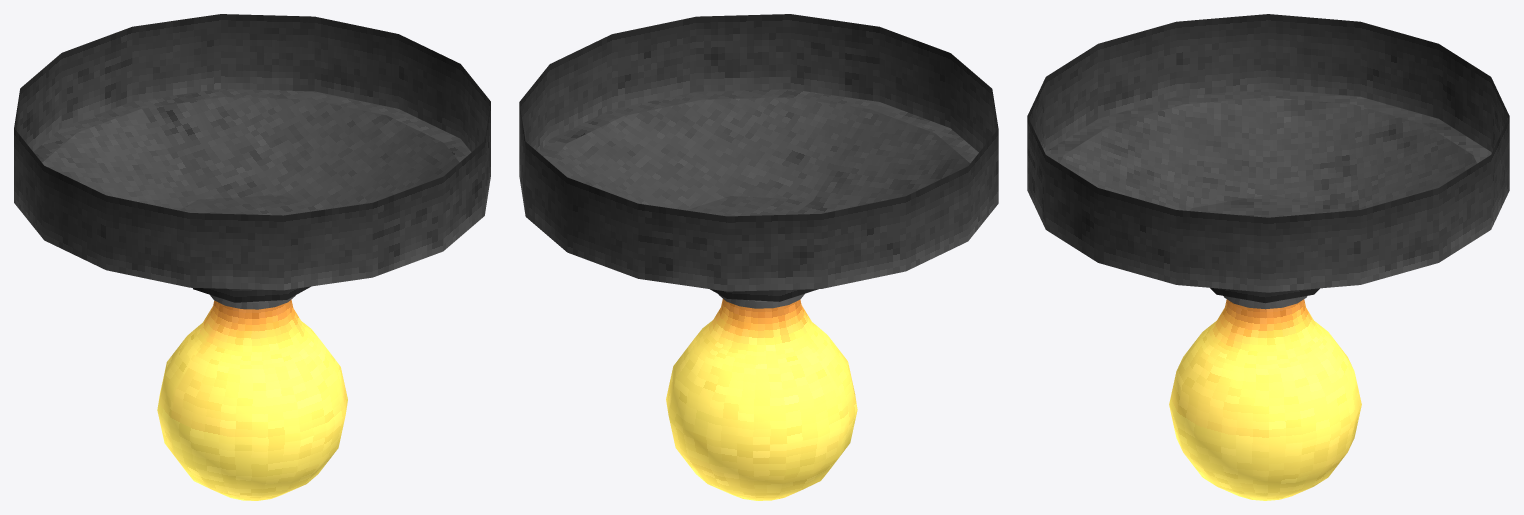
File: ceiling_lamp_mp_1_on.glb
3 renders of one model, left to right at view 1: azimuth 30°, elevation 25°; view 2: azimuth 150°, elevation 25°; view 3: azimuth 270°, elevation 25°, orthographic.
Parts seen in each view (by area): view 1: ceiling_lamp_mp_1_on; view 2: ceiling_lamp_mp_1_on; view 3: ceiling_lamp_mp_1_on.
Boxes of the visible parts, <box> form: ceiling_lamp_mp_1_on: <box>14,14,490,500</box>; ceiling_lamp_mp_1_on: <box>519,14,998,500</box>; ceiling_lamp_mp_1_on: <box>1027,14,1509,500</box>.
Size of the model in its own units: 0.215 by 0.1855 by 0.215.
Materials: 2 (2 with a texture image).
